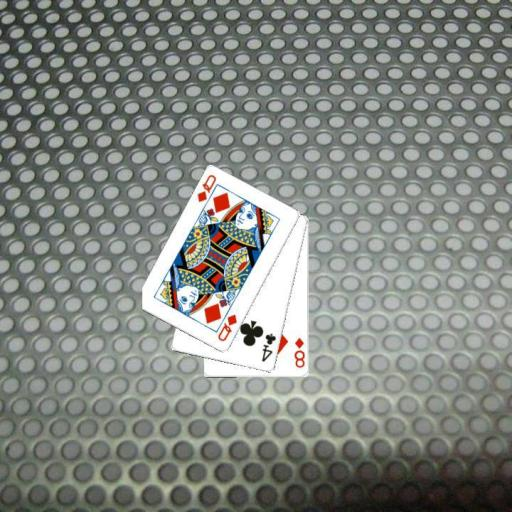4C: (259, 331, 277, 363)
8D: (292, 334, 306, 369)
QD: (194, 171, 218, 204), (215, 311, 238, 343)
